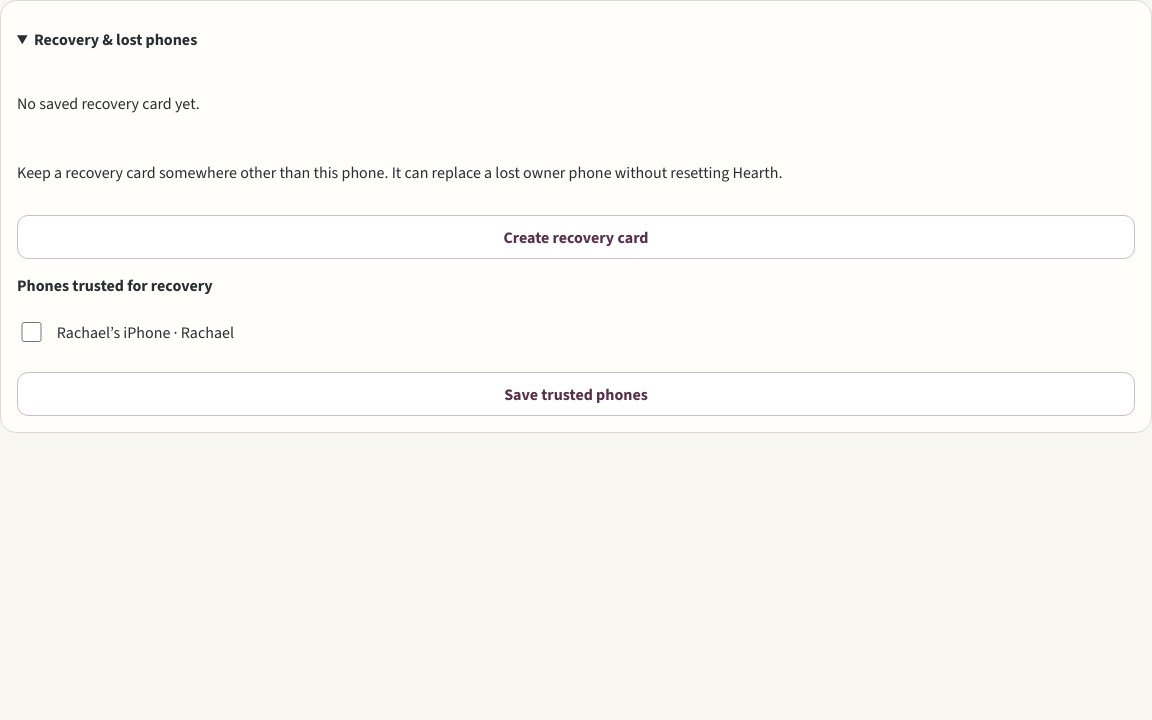
Test: compact phone recovery › shows a private downloadable card but cannot activate it before acknowledgement
The image size is (1152, 720).
Expected: the text "No saved recovery card yet." is shown, [17, 93, 200, 114]
Click the button "Create recovery card": {"x": 576, "y": 237} [17, 215, 1135, 259]
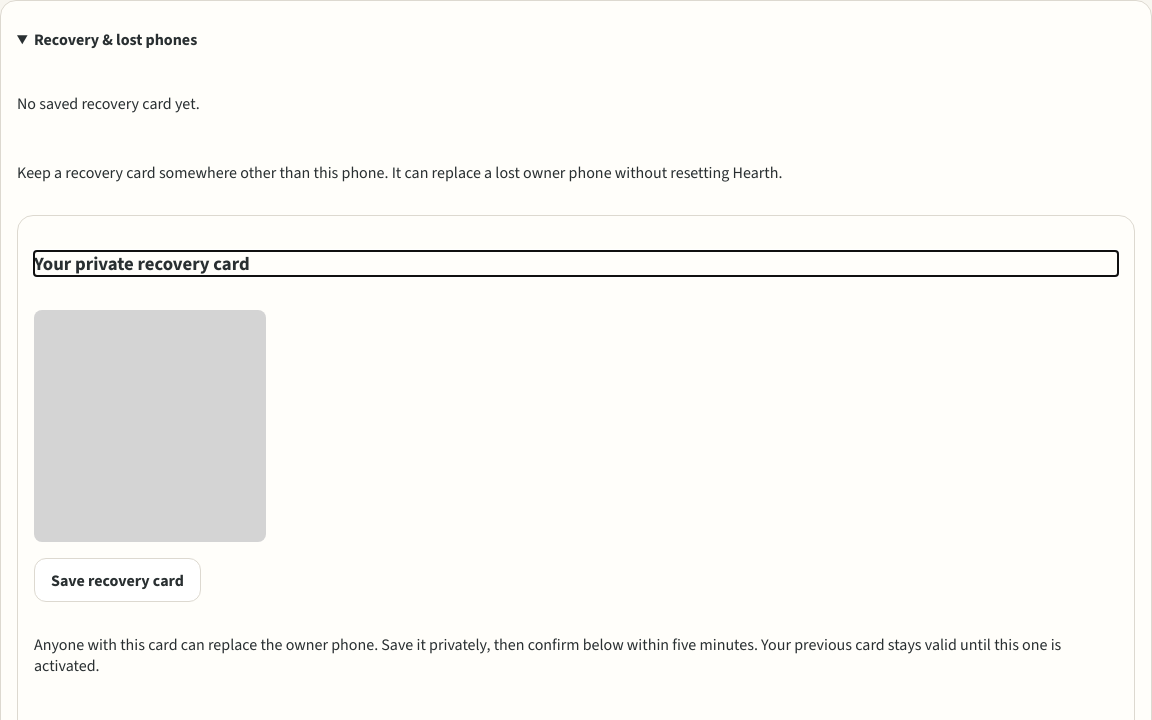
Expected: the heading "Your private recovery card" is shown, [34, 251, 250, 276]
